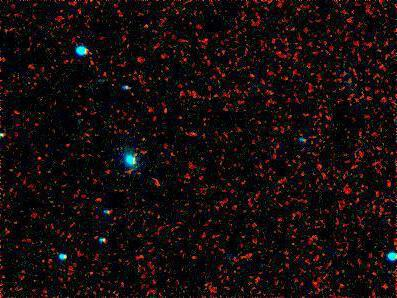star: (48, 236, 78, 266)
